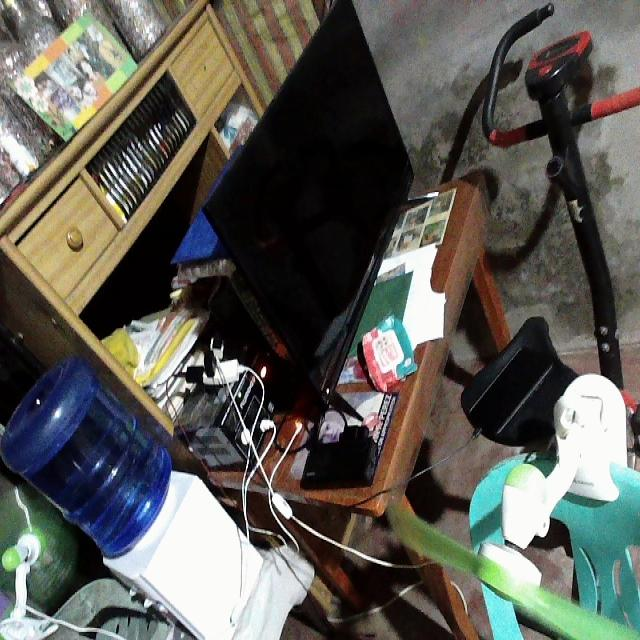-: (180, 319, 244, 385)
